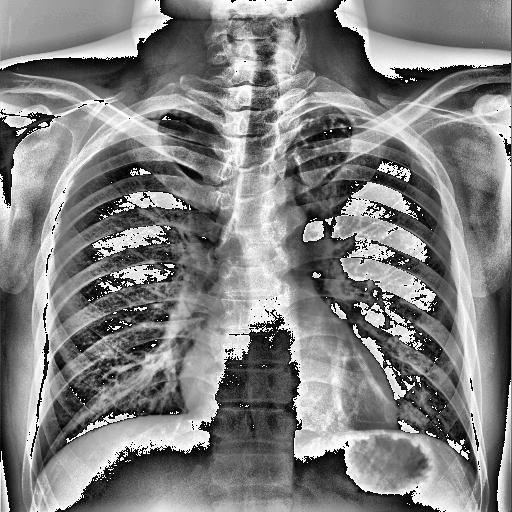11- Pleural thickening: (100, 103, 216, 138), (101, 107, 190, 141), (292, 102, 383, 120), (120, 106, 206, 124), (348, 111, 399, 135), (362, 111, 404, 137)
13- Pulmonary fibrosis: (300, 110, 346, 186), (296, 116, 348, 178), (302, 118, 344, 189)
